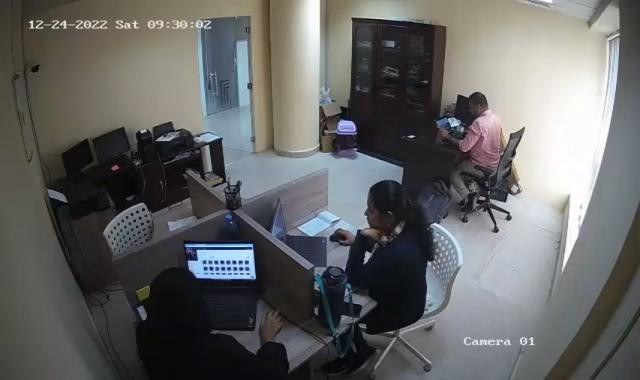no_hairnet: (361, 178, 412, 230), (466, 91, 489, 117)
